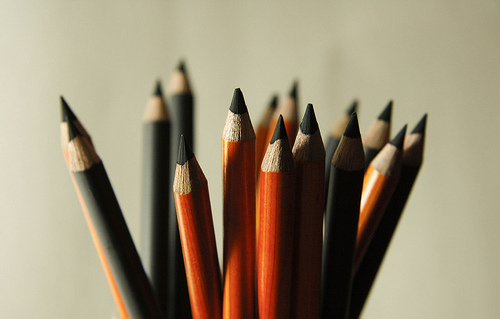pen_tip: (166, 129, 212, 220)
